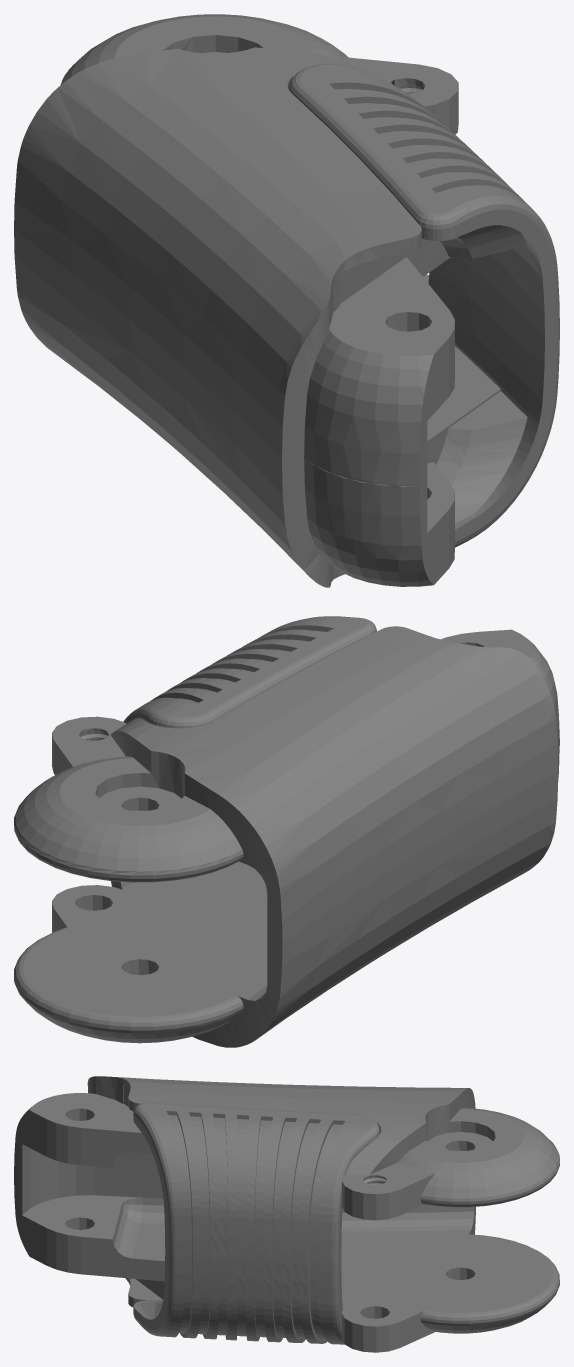
Rendered from lh_pinky_middle_vis.obj.
3 views of the same model, one above another, from view 1: azimuth 30°, elevation 25°; view 2: azimuth 150°, elevation 25°; view 3: azimuth 270°, elevation 25° (orthographic). The views are drawn at different scales.
Parts seen in each view (by area): view 1: lh_pinky_middle; view 2: lh_pinky_middle; view 3: lh_pinky_middle.
Boxes of the visible parts, left/top/right/bottom form: lh_pinky_middle: left=14, top=14, right=559, bottom=587; lh_pinky_middle: left=14, top=616, right=559, bottom=1047; lh_pinky_middle: left=14, top=1076, right=559, bottom=1352.
Bounding box in the file's own units: 0.0196 × 0.016 × 0.0369.
1 material, 1 textured.
